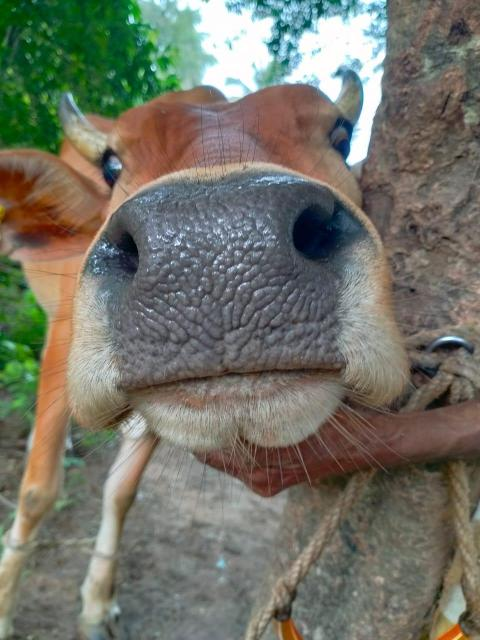Muzzle: (102, 188, 354, 394)
